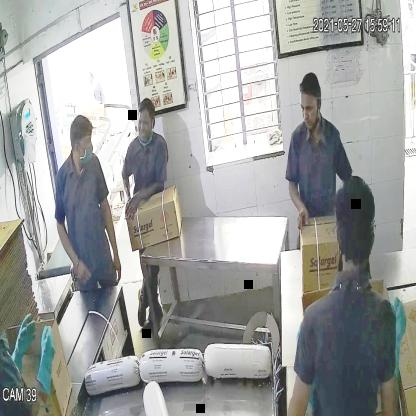no_goggles: (296, 96, 322, 118)
